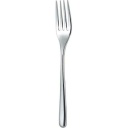Fork: (47, 1, 75, 128)
